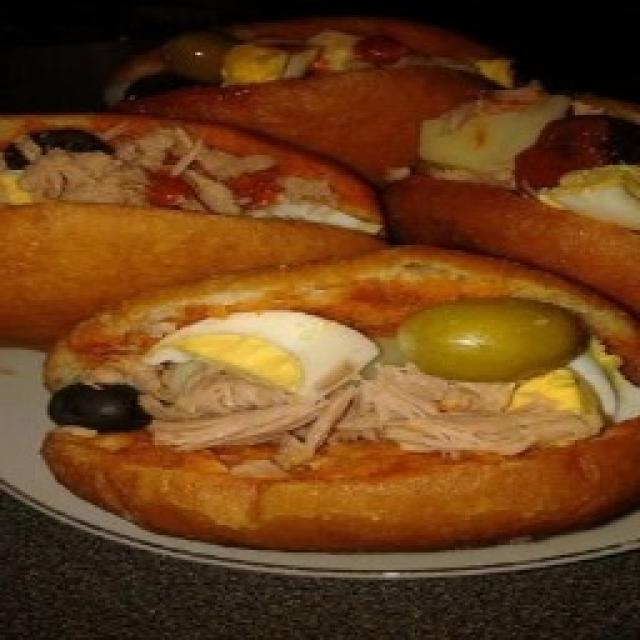Frecasse: (0, 30, 640, 552)
